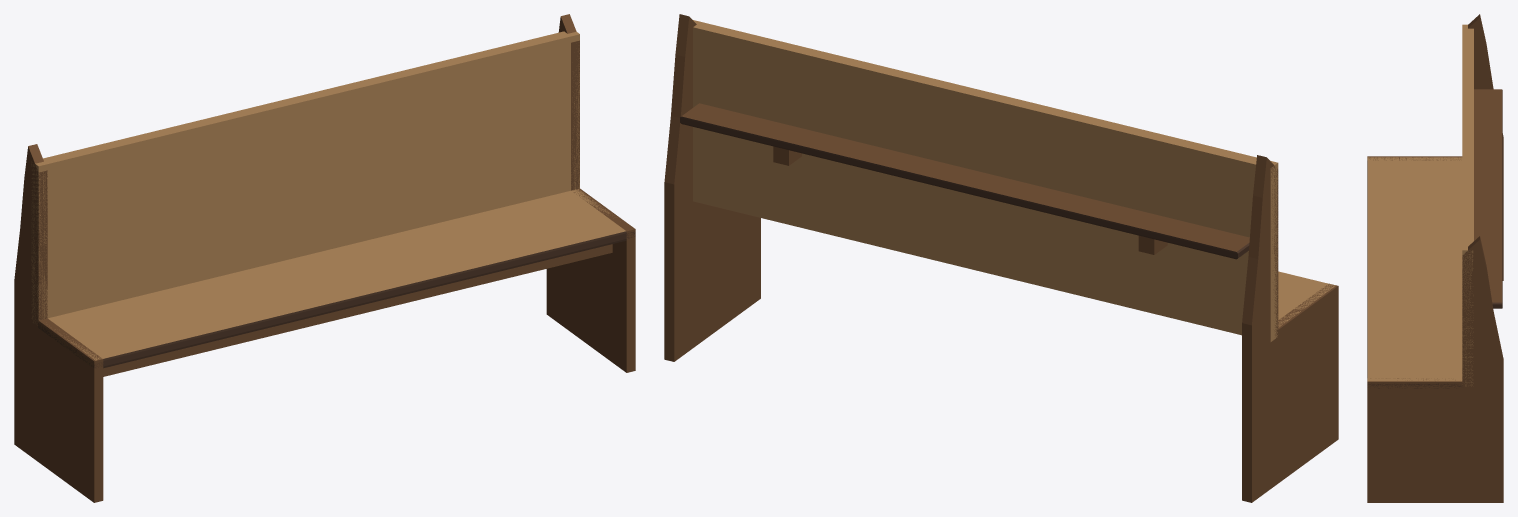
The model's file is FN_Bench_Pew.glb.
The picture shows the model from 3 angles, left to right: view 1: azimuth 30°, elevation 25°; view 2: azimuth 150°, elevation 25°; view 3: azimuth 270°, elevation 25°; orthographic projection. The views are drawn at different scales.
Visible parts, largest first — view 1: FN_Bench_Pew; view 2: FN_Bench_Pew; view 3: FN_Bench_Pew.
Part boxes in pixels (x1,y1,x2,y2): FN_Bench_Pew: (14,14,635,502); FN_Bench_Pew: (664,14,1338,502); FN_Bench_Pew: (1367,14,1503,502).
Size of the model in its own units: 1.8 by 0.98 by 0.46.
1 material, 1 textured.
